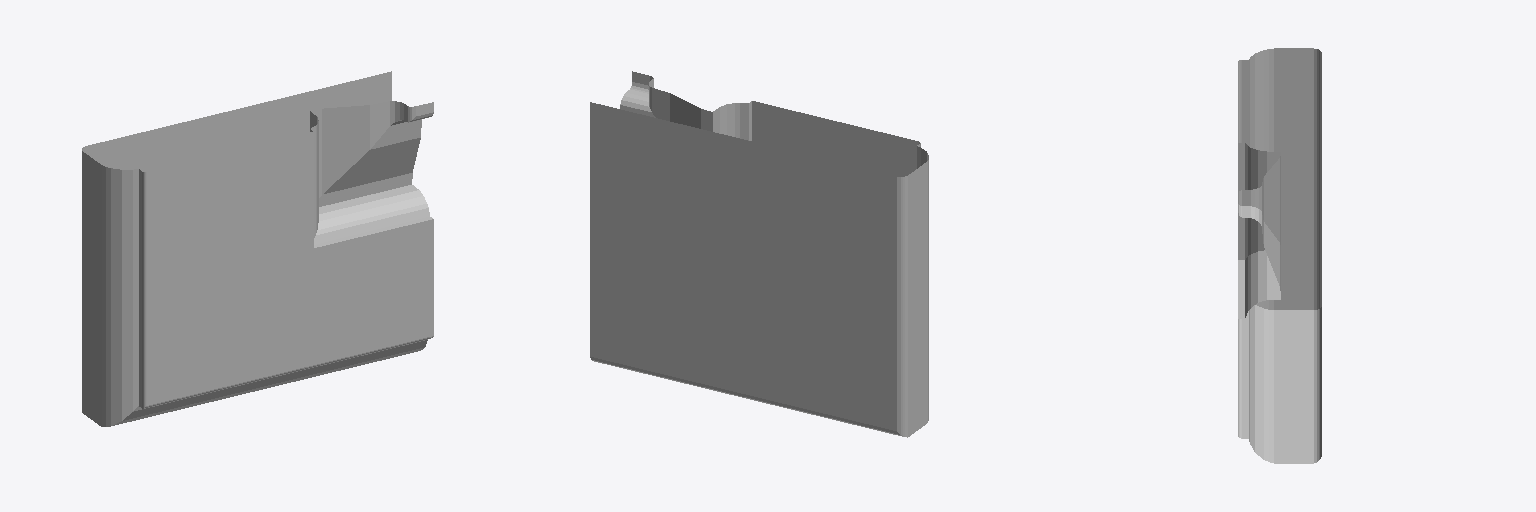
Rendered from original-70.obj.
3 renders of one model, left to right at view 1: azimuth 30°, elevation 25°; view 2: azimuth 150°, elevation 25°; view 3: azimuth 270°, elevation 25°, orthographic.
Visible parts, largest first — view 1: DF_11_BL2/DF_11_BL/mesh27/mesh27-geometry#mesh27-geometry; view 2: DF_11_BL2/DF_11_BL/mesh27/mesh27-geometry#mesh27-geometry; view 3: DF_11_BL2/DF_11_BL/mesh27/mesh27-geometry#mesh27-geometry.
Part boxes in pixels (x1,y1,x2,y2): DF_11_BL2/DF_11_BL/mesh27/mesh27-geometry#mesh27-geometry: (82,71,433,426); DF_11_BL2/DF_11_BL/mesh27/mesh27-geometry#mesh27-geometry: (590,71,928,437); DF_11_BL2/DF_11_BL/mesh27/mesh27-geometry#mesh27-geometry: (1238,48,1321,463).
Size of the model in its own units: 0.1169 by 0.0933 by 0.027.